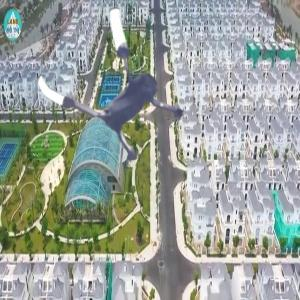drone: (36, 2, 210, 176)
